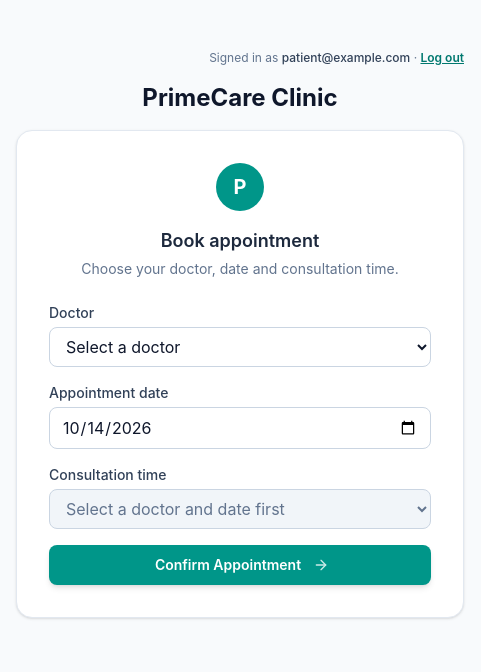
Test case: BookAppointment › reloads slots when the chosen slot was just taken (409)
Select "Dr. Sarah Perera - General Practitioner" in the dropdown labelled "Doctor" at (240, 347), box [49,327,431,367]
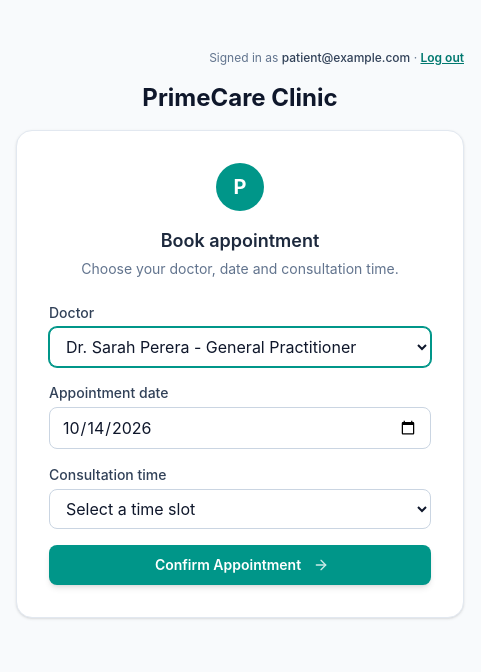
Now the dropdown labelled "Consultation time" is enabled
Select "02:30 PM" in the dropdown labelled "Consultation time" at (240, 509), box [49,489,431,529]
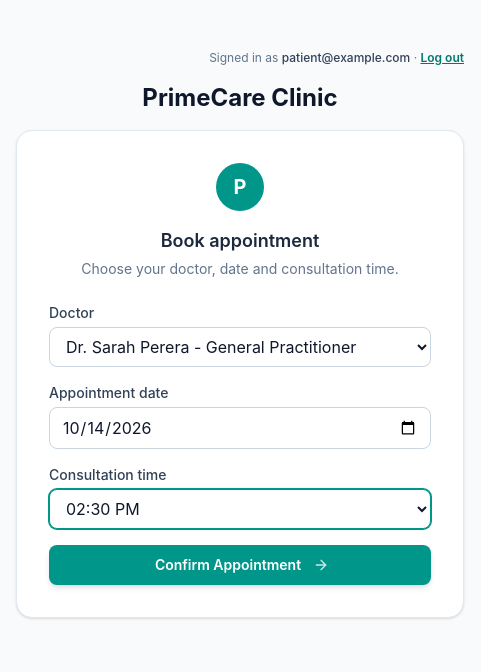
Click the button "Confirm Appointment" at (240, 565), box [49,545,431,585]
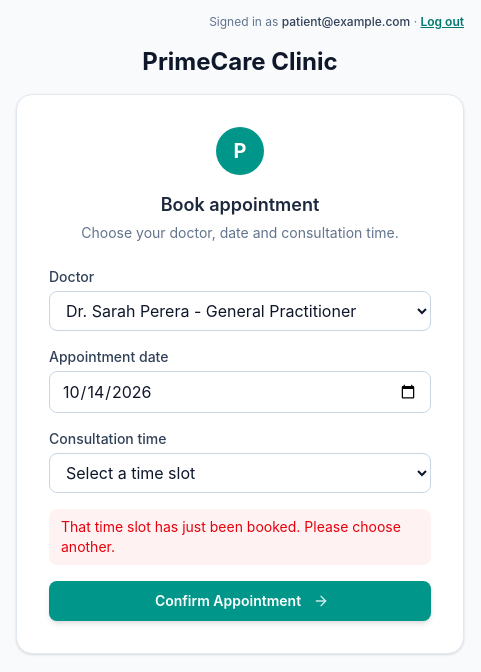
Expected: the button "Confirm Appointment" is enabled, [49,581,431,621]
Now the message reads "That time slot has just been booked. Please choose another.", box [61,518,401,555]
